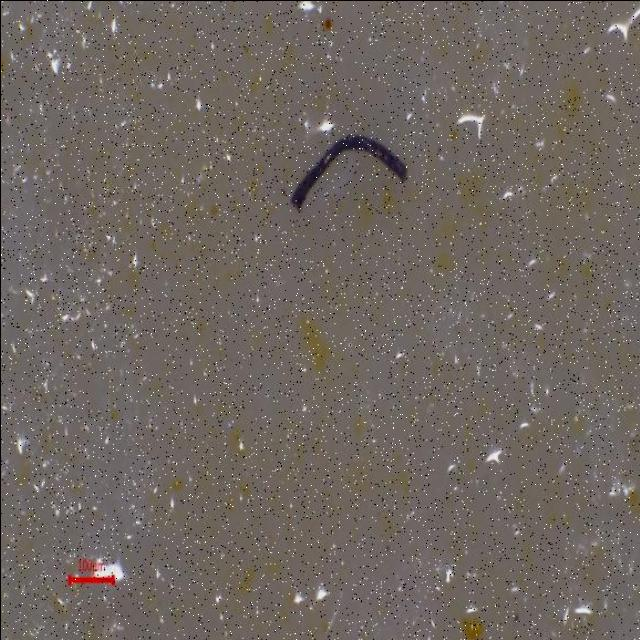Fibre: (284, 133, 411, 214)
